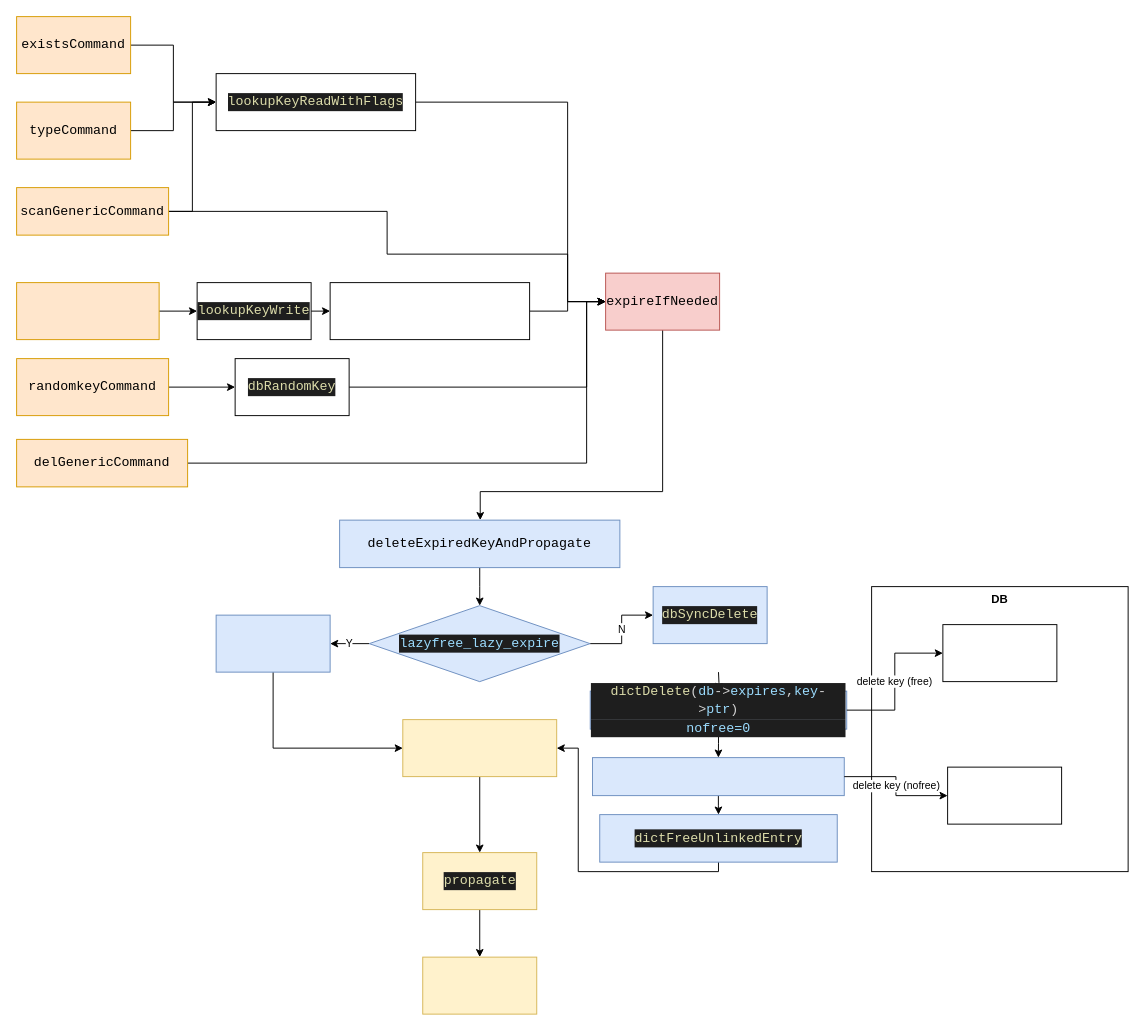
Image size: 1145x1031. Some labels were removed from this diagram. The shapes that lost their labels are listed below. From the top down, each one's centre as x and y in pixels, then its label:
At point 87,311: "setGenericCommand".
At point 429,311: "lookupKeyWriteWithFlags".
At point 272,643: "dbAsyncDelete".
At point 999,653: "expires".
At point 479,748: "propagateExpire".
At point 718,776: "dictUnlink ( db -> dict , key -> ptr ) nofree=1".
At point 1004,795: "dict".
At point 479,985: "delCommand".
